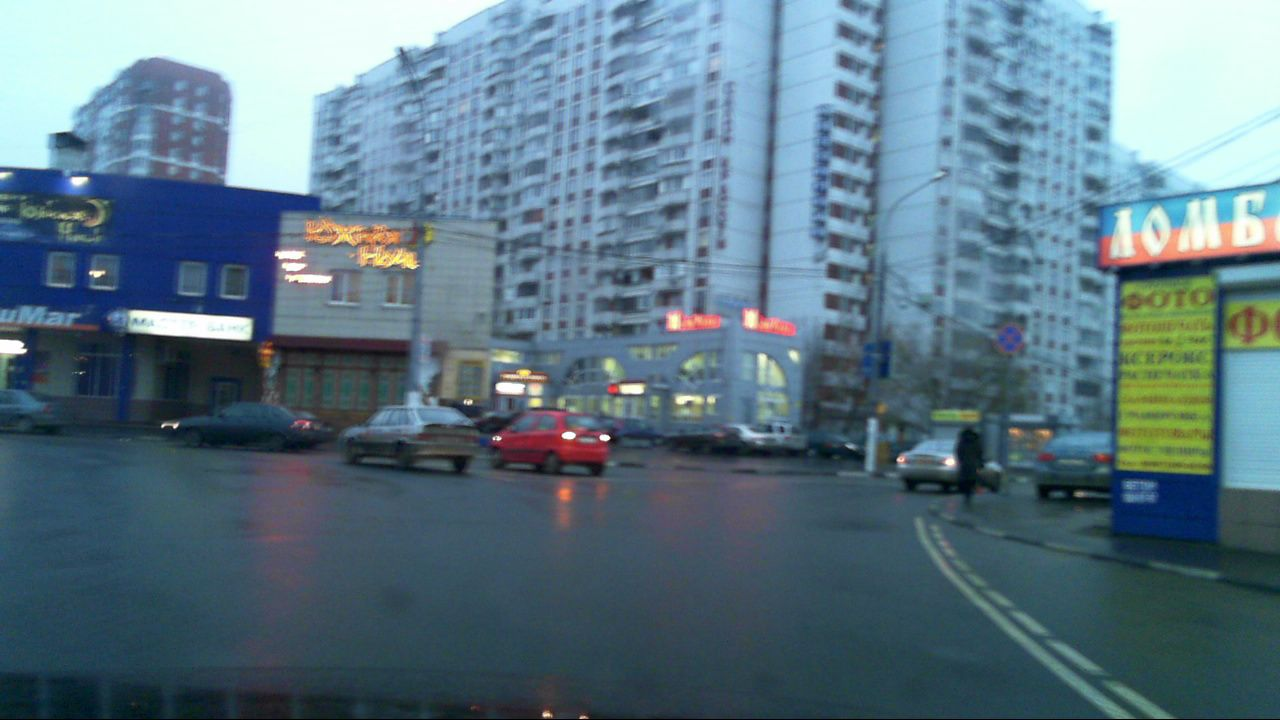No Parking: (992, 324, 1025, 355)
